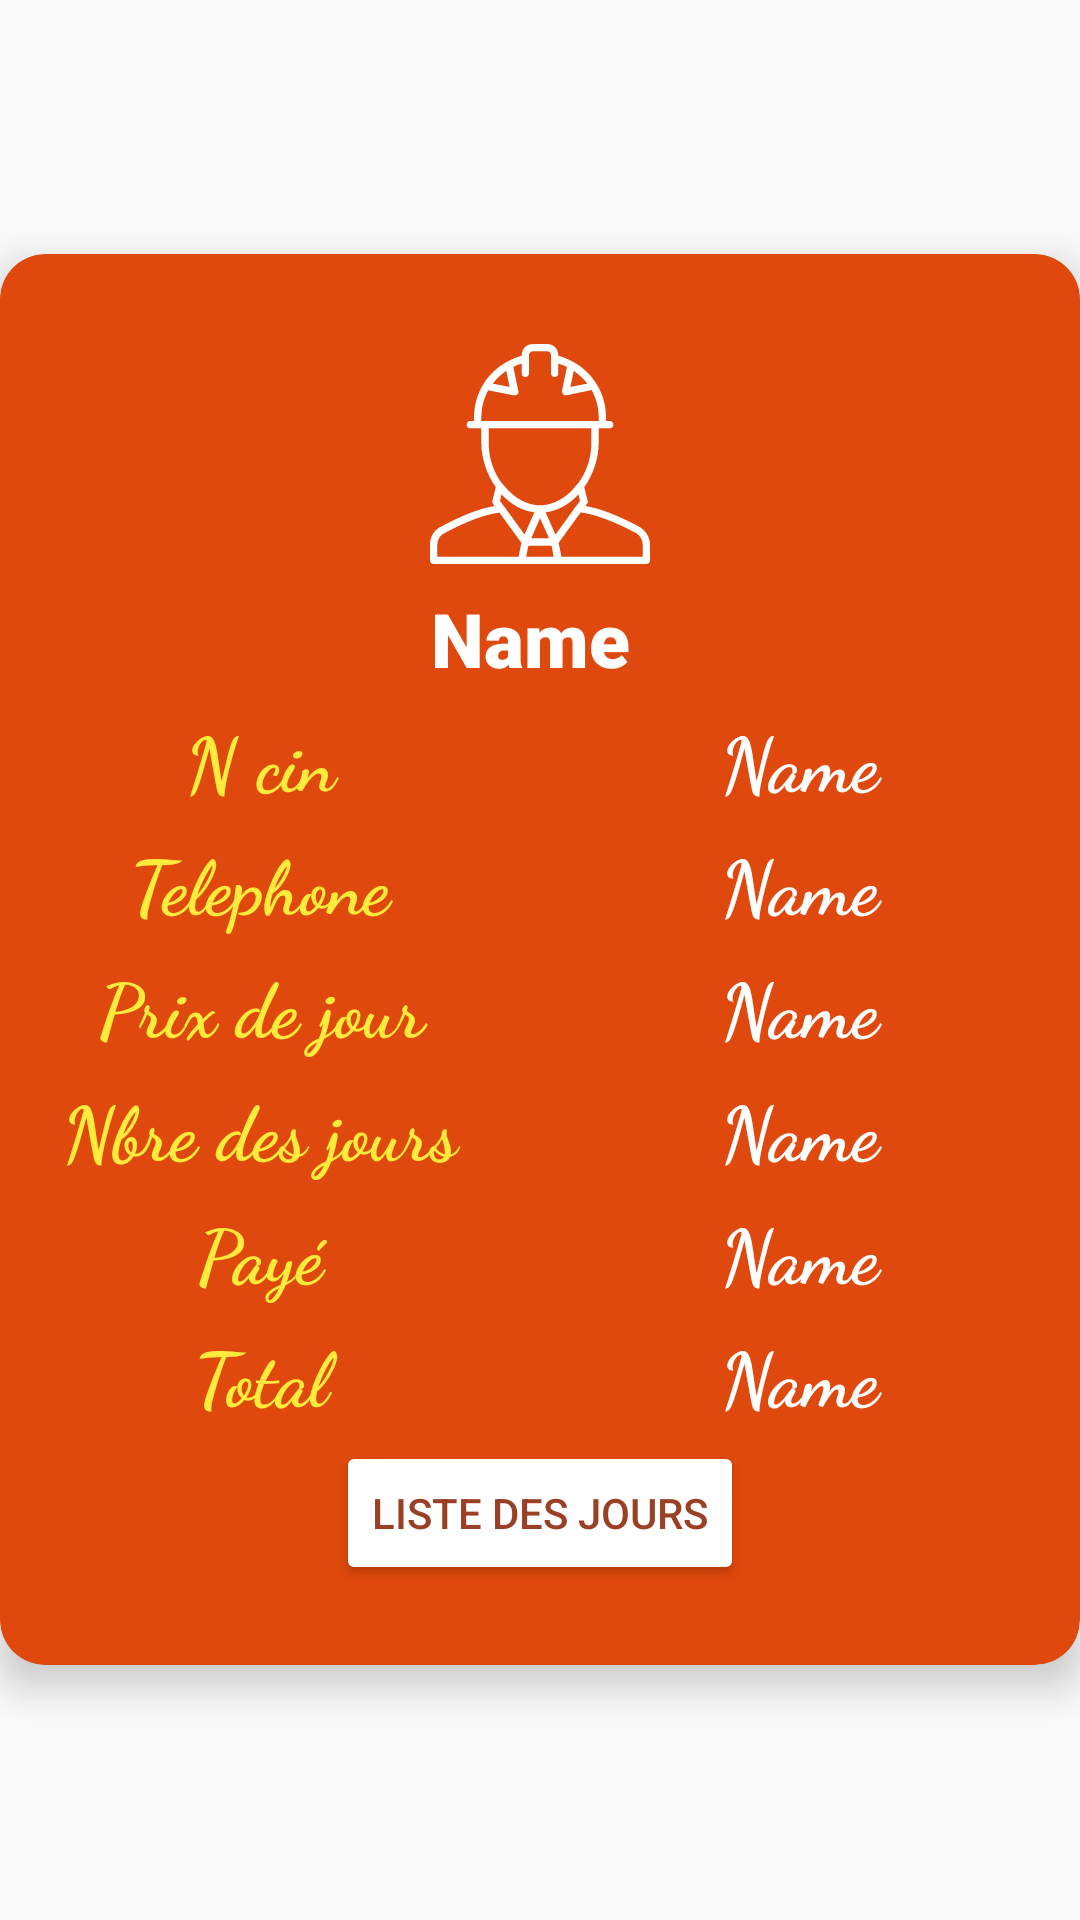

Named icons in this screenshot (1080 × 1920) and their centers, (x=x, y=y):
worker: (x=540, y=454)
